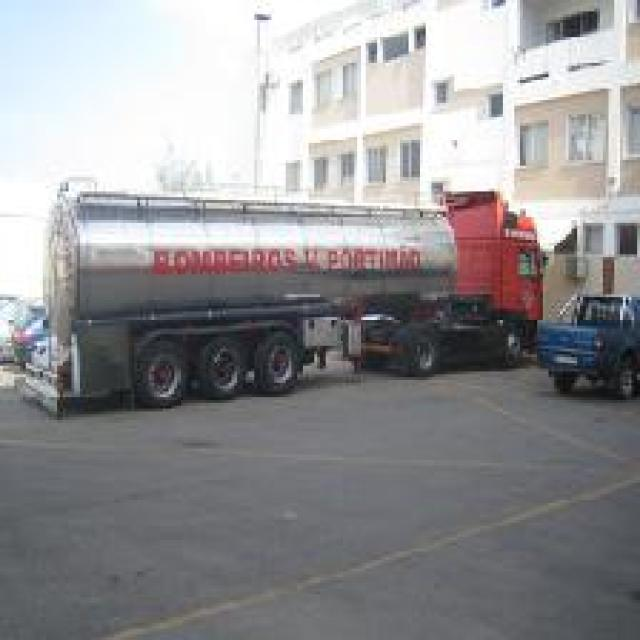16-Wheelers: (20, 174, 546, 417)
Pickup: (532, 292, 637, 397)
